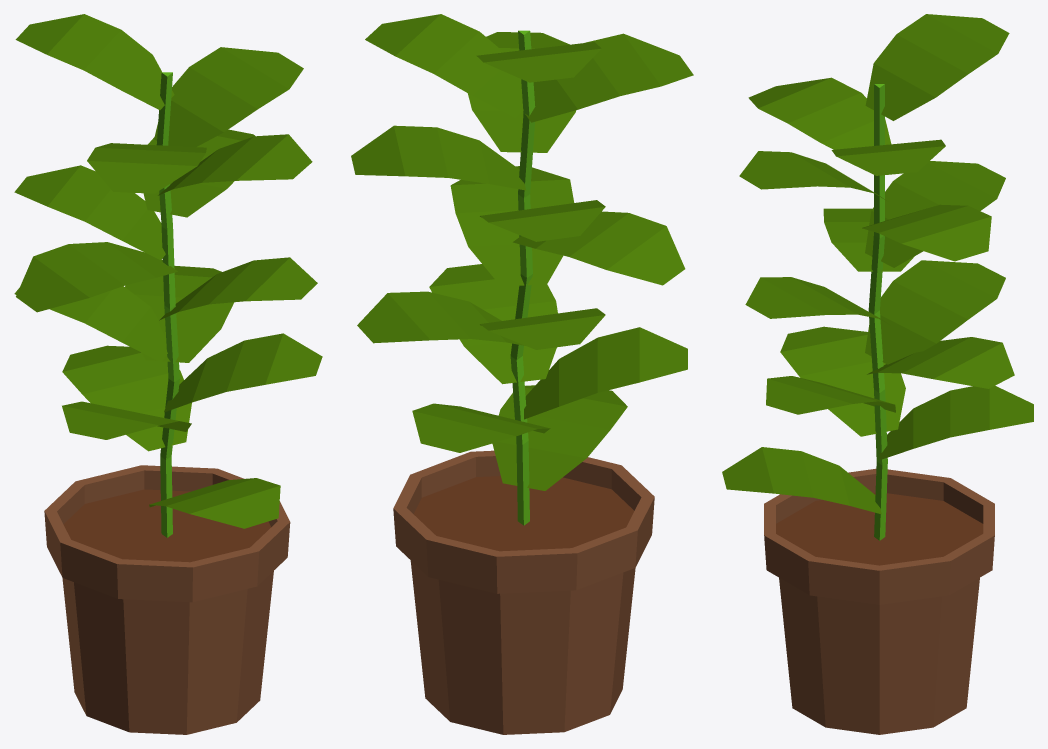
Rendered from Plant.fbx.
3 renders of one model, left to right at view 1: azimuth 30°, elevation 25°; view 2: azimuth 150°, elevation 25°; view 3: azimuth 270°, elevation 25°, orthographic. The views are drawn at different scales.
Parts seen in each view (by area): view 1: Plant; view 2: Plant; view 3: Plant.
Boxes of the visible parts, x1=… form: Plant: x1=14, y1=14, x2=322, y2=734; Plant: x1=351, y1=14, x2=693, y2=734; Plant: x1=722, y1=14, x2=1033, y2=734.
Size of the model in its own units: 48.17 by 108 by 47.98.
